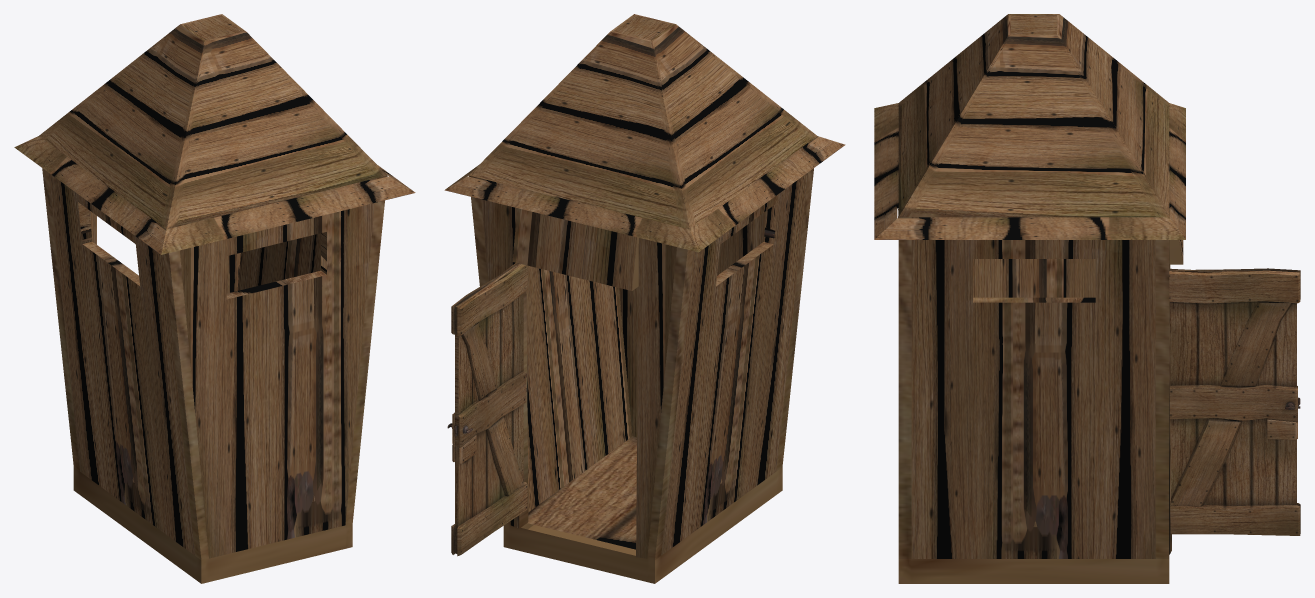
The model's file is latrineChestOpened.obj.
3 views of the same model, side by side, from view 1: azimuth 30°, elevation 25°; view 2: azimuth 150°, elevation 25°; view 3: azimuth 270°, elevation 25° (orthographic). The views are drawn at different scales.
Parts seen in each view (by area): view 1: Cube.003; view 2: Cube.003, Wooden_Door_Mesh.002; view 3: Cube.003, Wooden_Door_Mesh.002.
Boxes of the visible parts, <box> form: Cube.003: <box>14,14,415,583</box>; Cube.003: <box>444,14,845,583</box>; Wooden_Door_Mesh.002: <box>447,263,527,556</box>; Cube.003: <box>874,14,1185,583</box>; Wooden_Door_Mesh.002: <box>1169,268,1300,535</box>.
Size of the model in its own units: 53.41 by 98.39 by 73.09.
